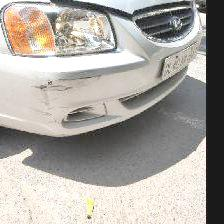bumper_scratch: (31, 72, 99, 95)
